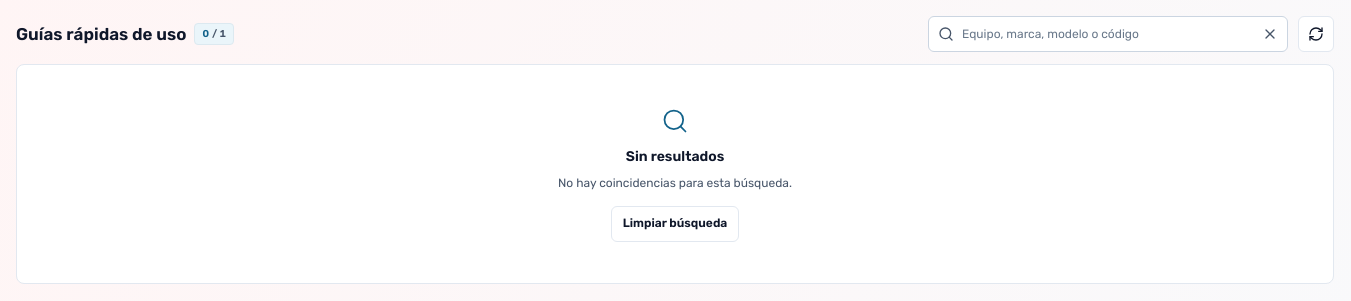
Test: QuickGuidesComponent presentation › distingue un listado vacío de una búsqueda sin resultados
Click the button "Limpiar búsqueda".
click(675, 224)  # box [611, 206, 739, 242]
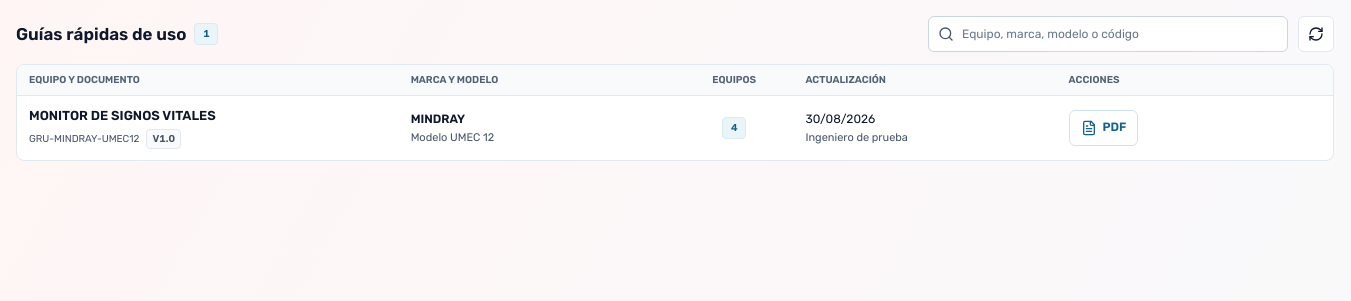
Expected: the number of rows with class "guide-row" is 1, [17, 96, 1333, 160]
